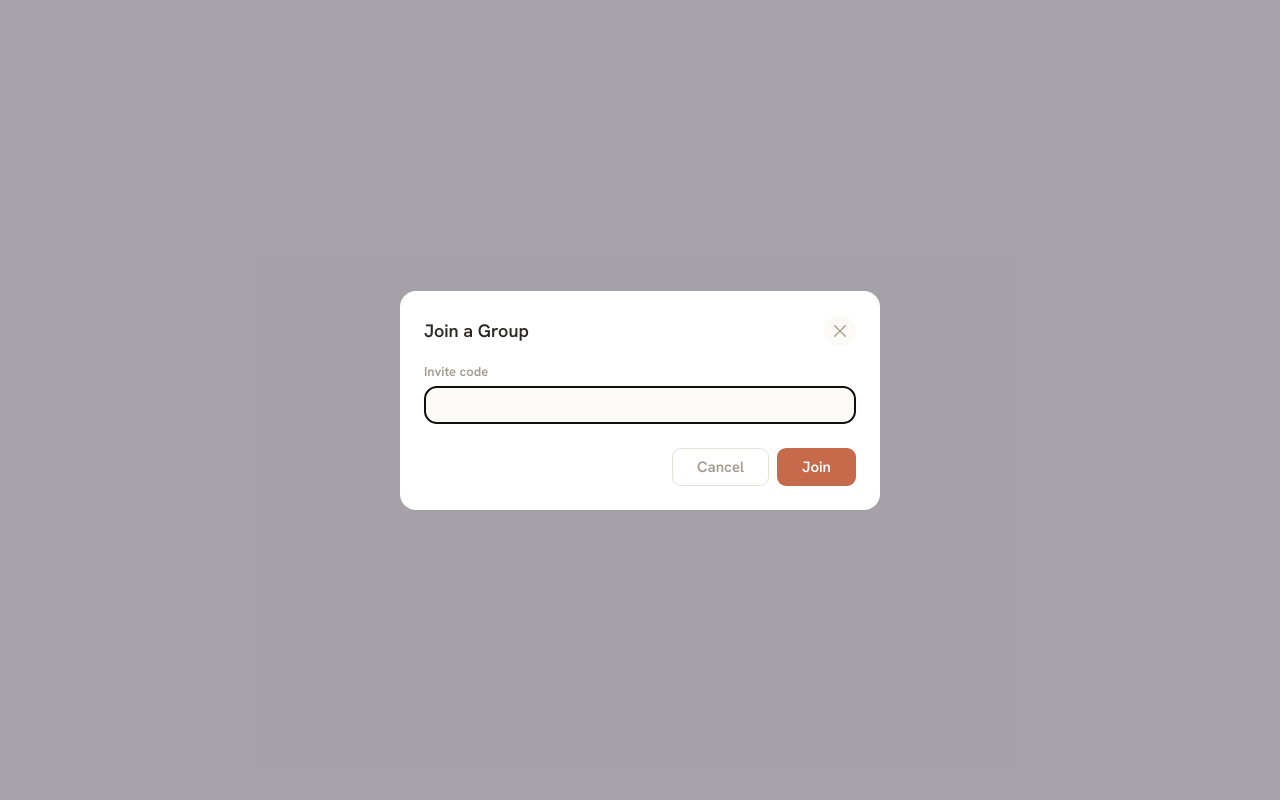
Test: JoinGroupModal › shows an error and stays open when the join fails
The image size is (1280, 800).
Type "BAD" into the field labelled "Invite code" at (640, 404), box [424,386,856,424]
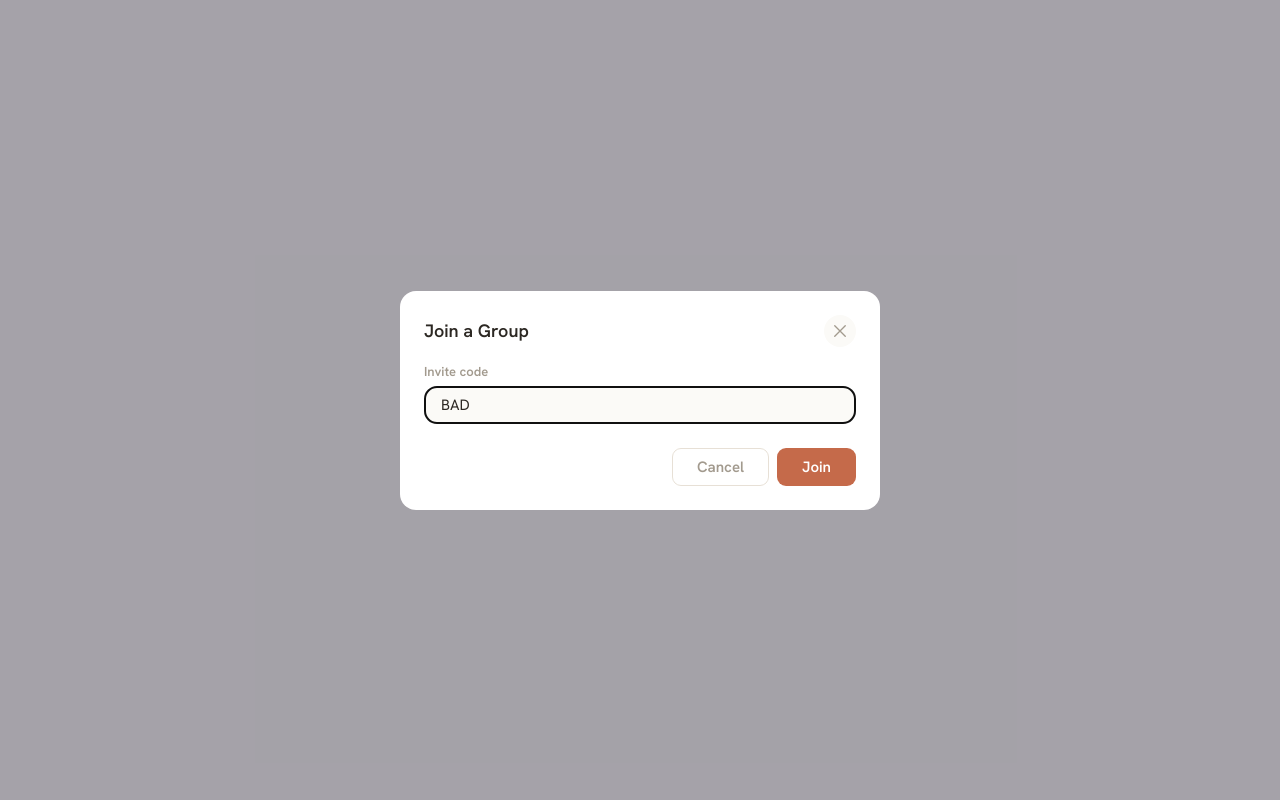
Click the button "Join" at (817, 466), box [777,448,856,486]
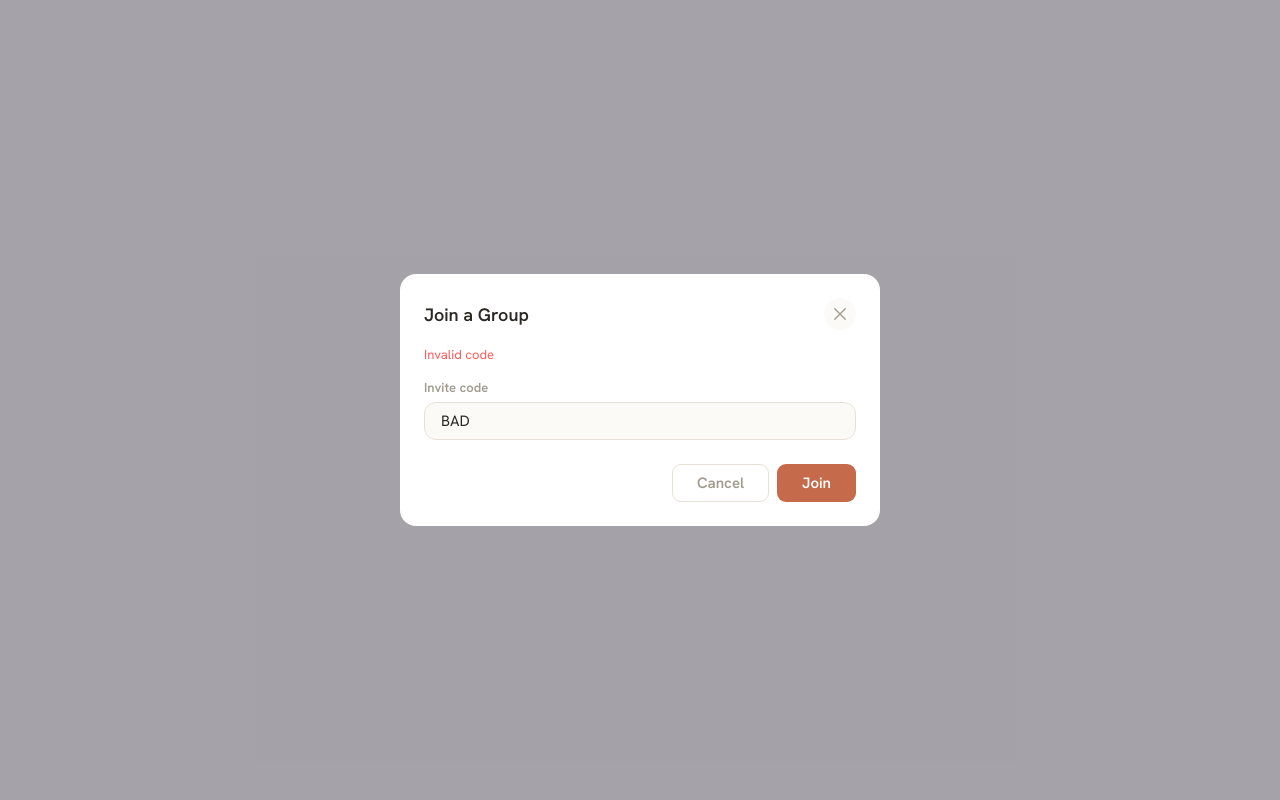
Expected: the text "Invalid code" is shown, [424,346,494,363]
